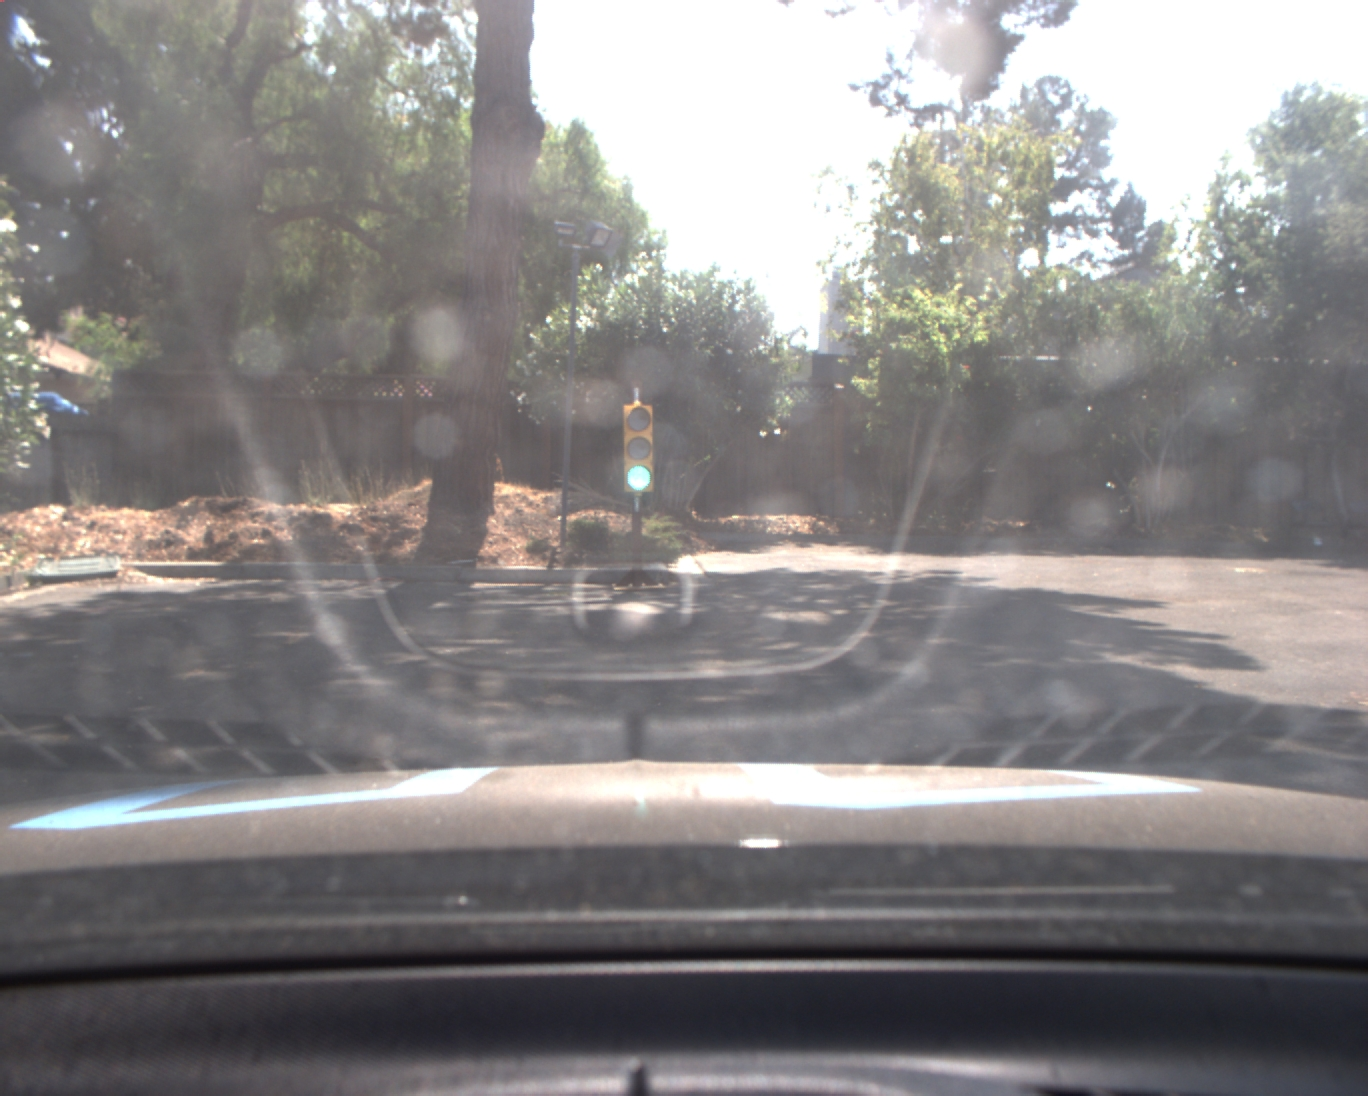green: (623, 406, 653, 493)
